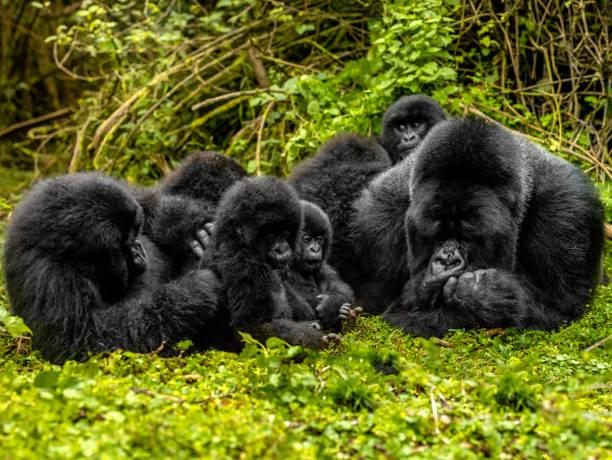goriile_montagne: (365, 116, 579, 319), (13, 175, 173, 345), (205, 173, 308, 349), (294, 196, 360, 335), (370, 83, 445, 158)
